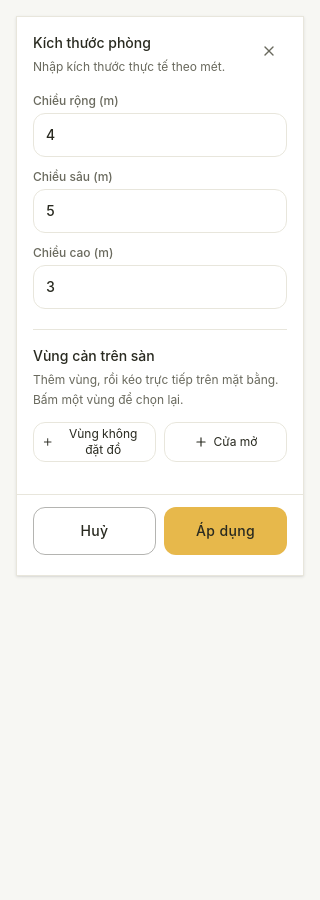
Test: RoomEditPanel › gộp các vùng cản cùng hành vi thành một công cụ
The width and height of the screenshot is (320, 900).
Expected: the button "Cột" is not shown
Expected: the button "Sàn khuyết" is not shown
Click the button "Vùng không đặt đồ" at (94, 442), box [33, 422, 156, 462]
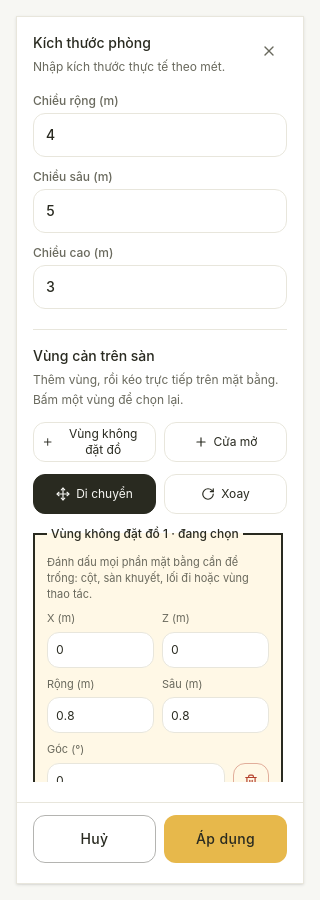
Expected: the text "cột, sàn khuyết, lối đi" is shown, [47, 555, 249, 601]
